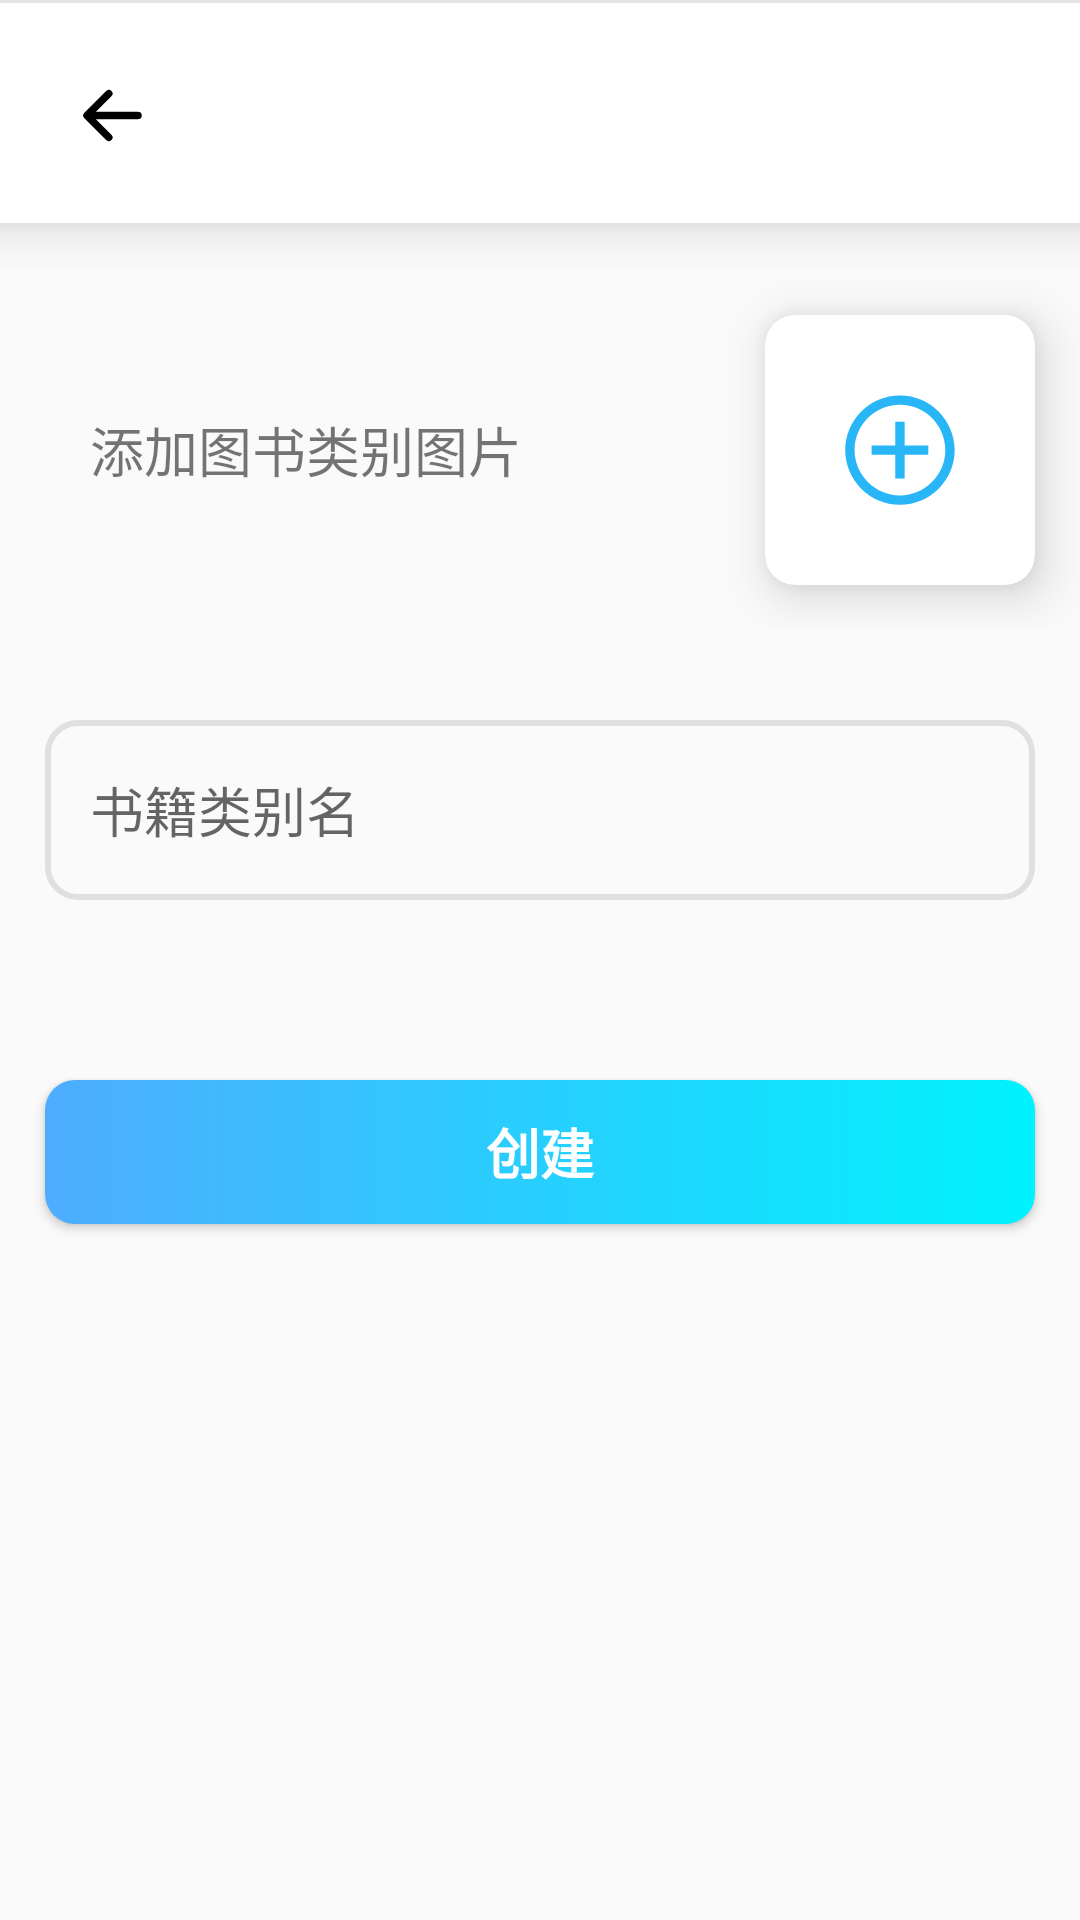

Icons on this 1080*1920 Android screen, each with its box as [x1, y1, x2, y2]:
add: [765, 315, 1035, 585]
